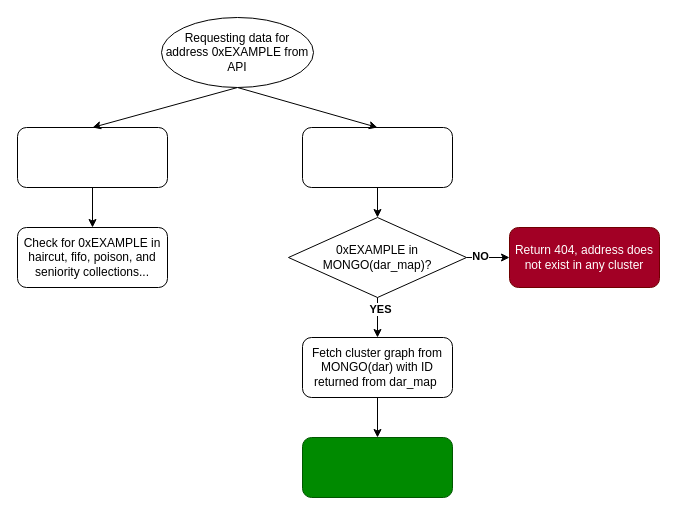
This 677x515 diagram has some shape labels left out. The shapes that lost their labels are listed below. From the top down, each one's box as (x1, y1, x2, y2) in pixels, then its label:
(16, 126, 168, 188): /blacklisting/0xEXAMPLE
(302, 126, 452, 188): /cluster/0xEXAMPLE
(302, 436, 452, 498): Return DARGraph
